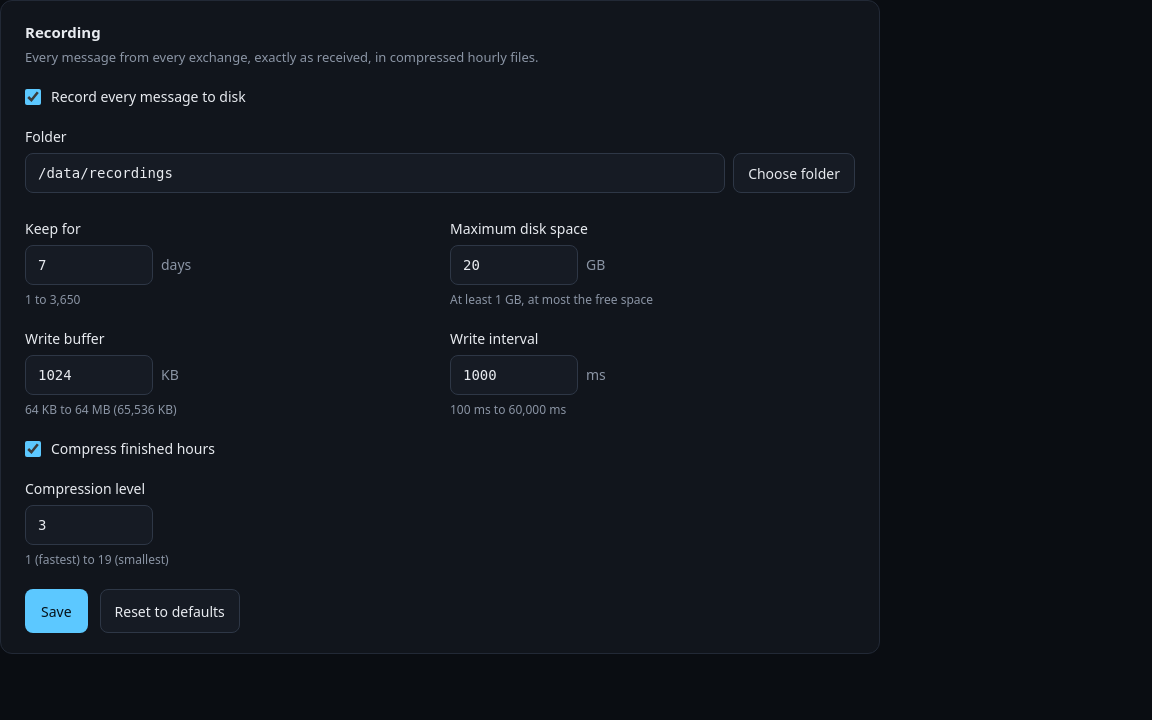
RecordingSettingsForm › shows the backend's error next to each invalid field
Replace the text in the field labelled "Keep for" with "0" at (89, 265), box 25,245 -> 153,285
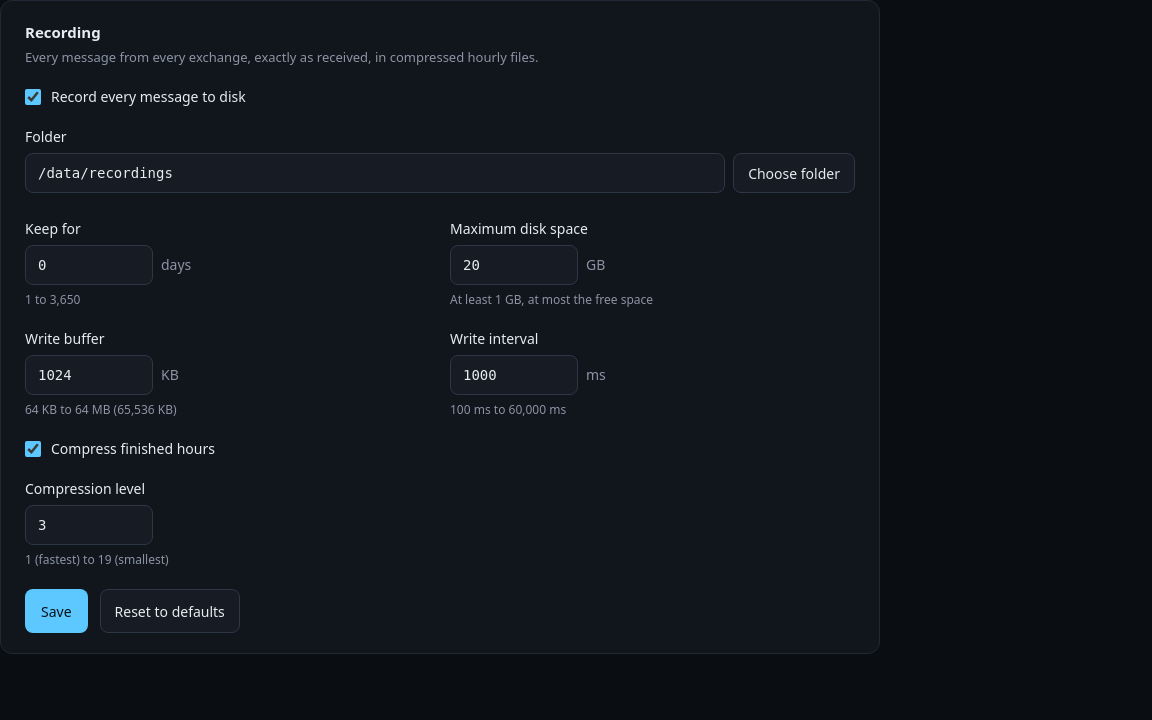
Click the button "Save" at (56, 611), box 25,589 -> 88,633
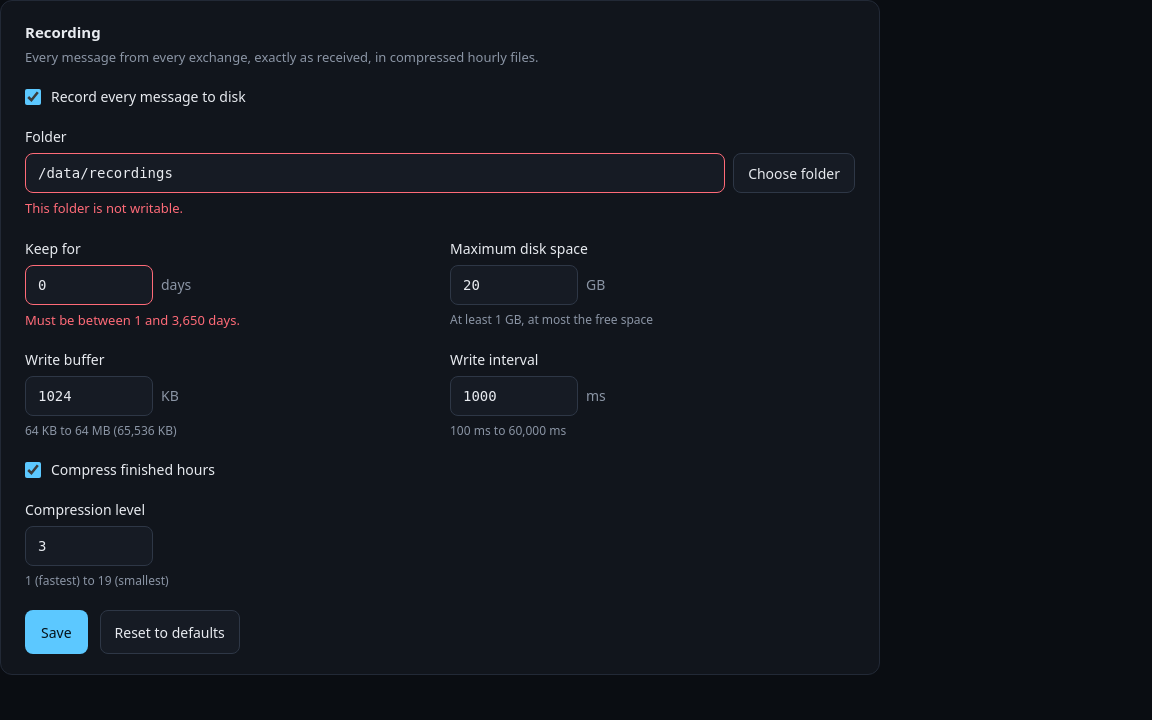
Now the text "Must be between 1 and 3,650 days." is shown, box 25,310 -> 240,328
